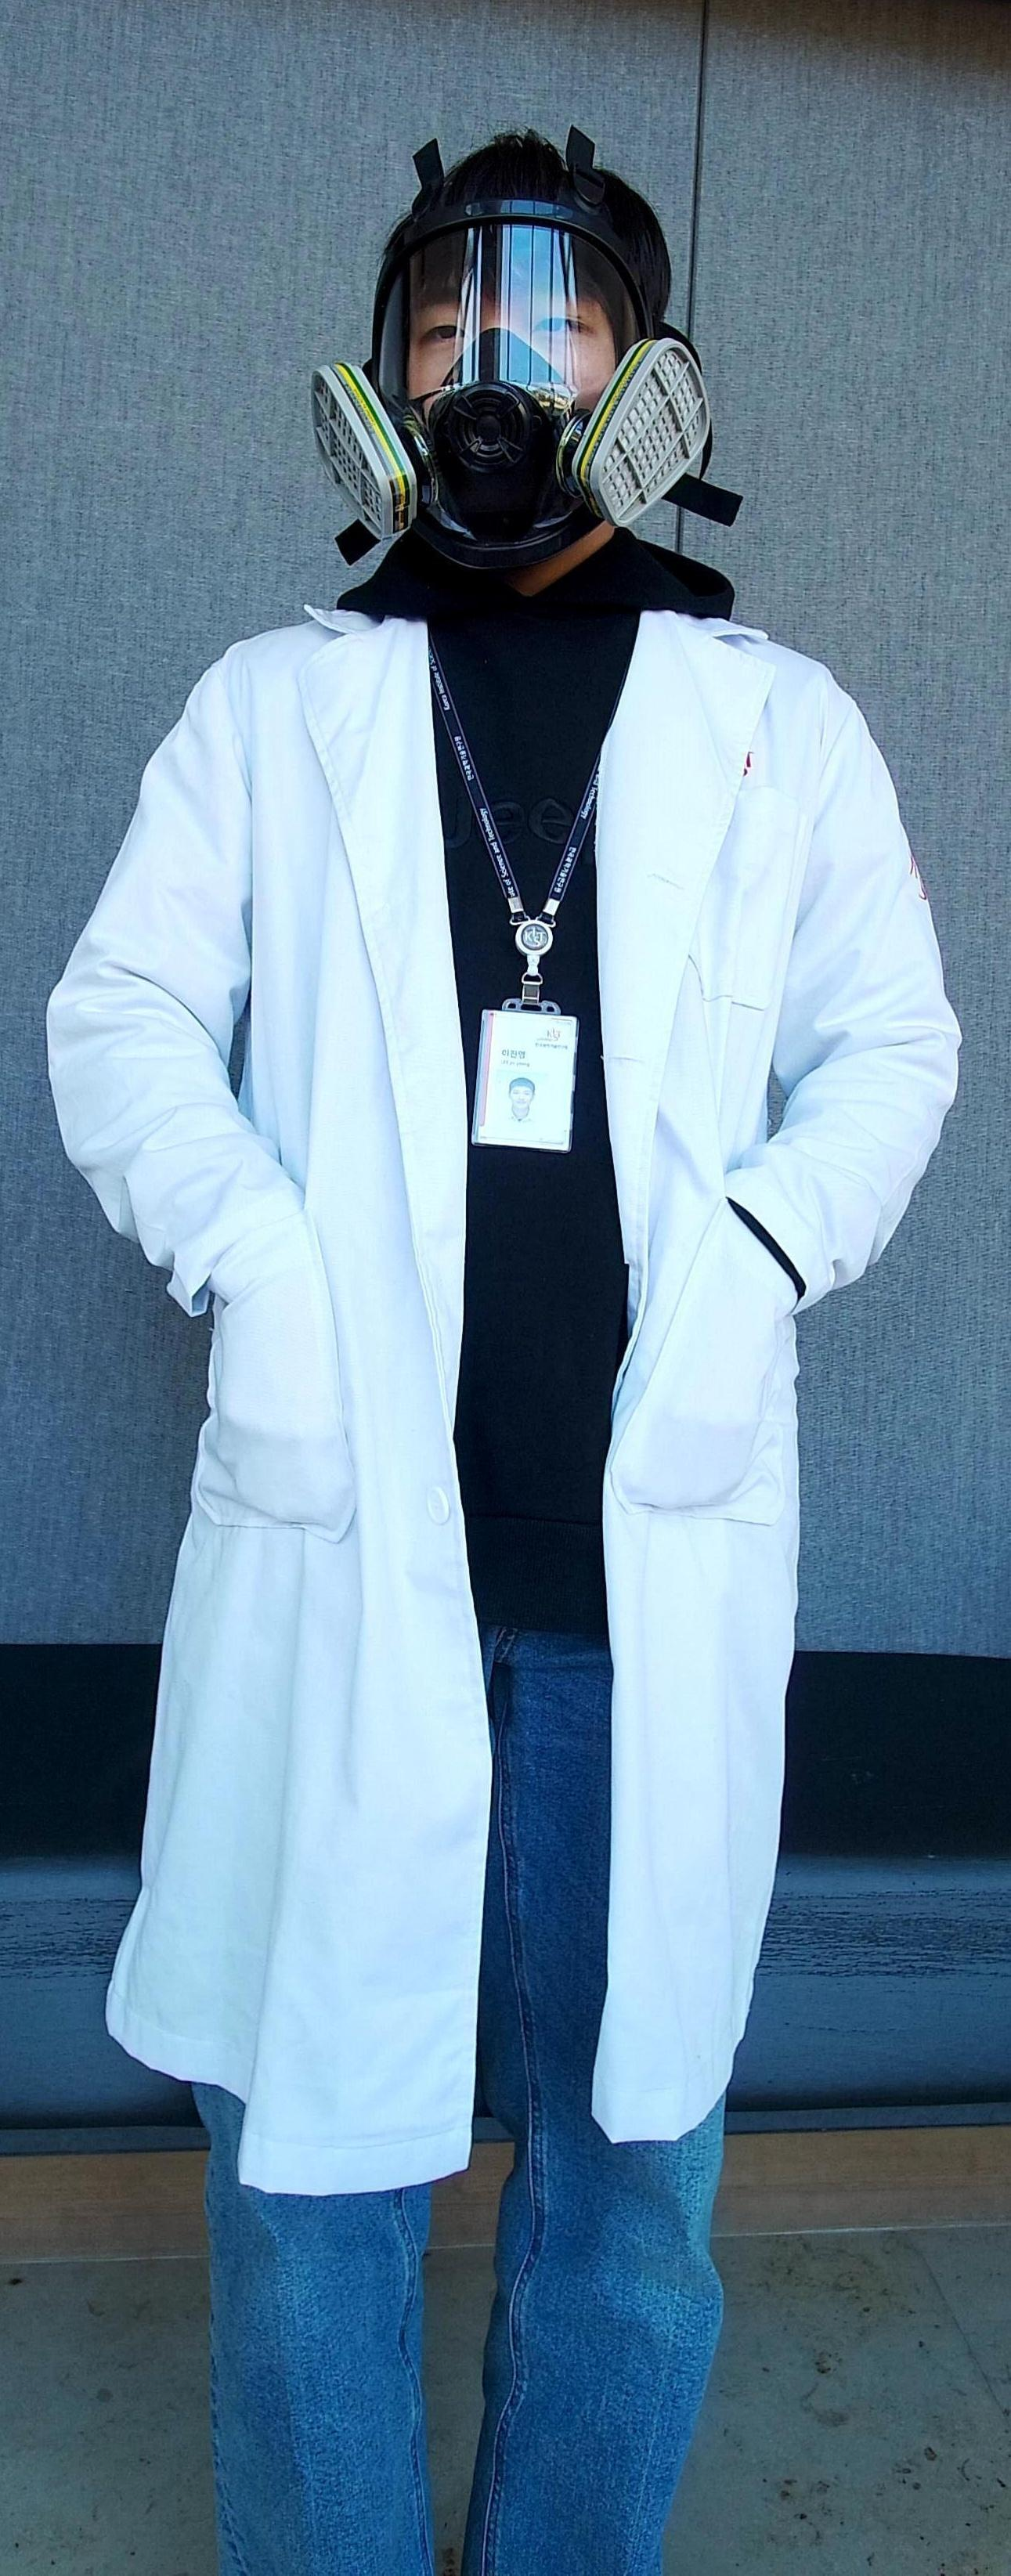lab_coat: (56, 636, 894, 2081)
